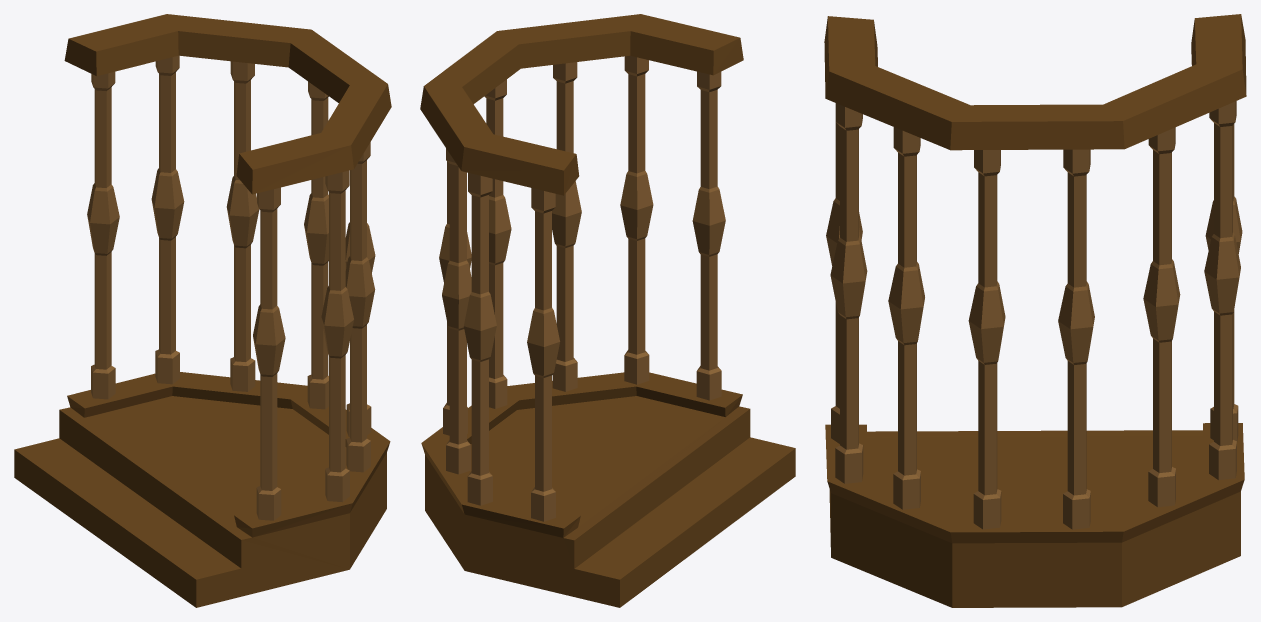
Rendered from AtrilSemiCircleEscenario2.fbx.
3 views of the same model, side by side, from view 1: azimuth 30°, elevation 25°; view 2: azimuth 150°, elevation 25°; view 3: azimuth 270°, elevation 25° (orthographic). The views are drawn at different scales.
Parts seen in each view (by area): view 1: Cylinder001; view 2: Cylinder001; view 3: Cylinder001.
Part boxes in pixels (box(x1,y1,x2,y2)): Cylinder001: box(14, 14, 391, 607); Cylinder001: box(420, 14, 795, 607); Cylinder001: box(824, 14, 1246, 607).
Bounding box in the file's own units: 90.4 × 146 × 115.
